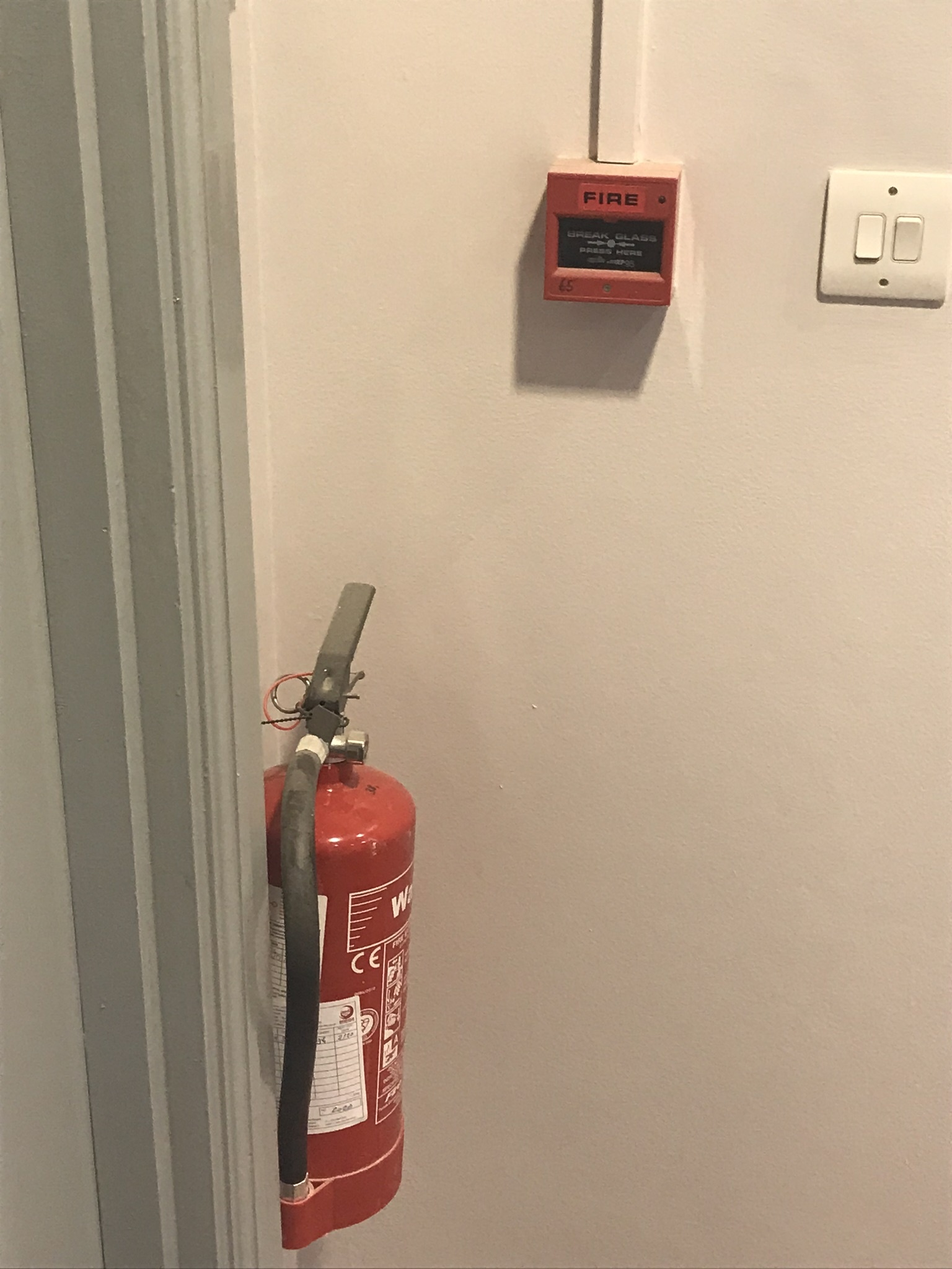fire_extinguisher: (260, 582, 417, 1251)
